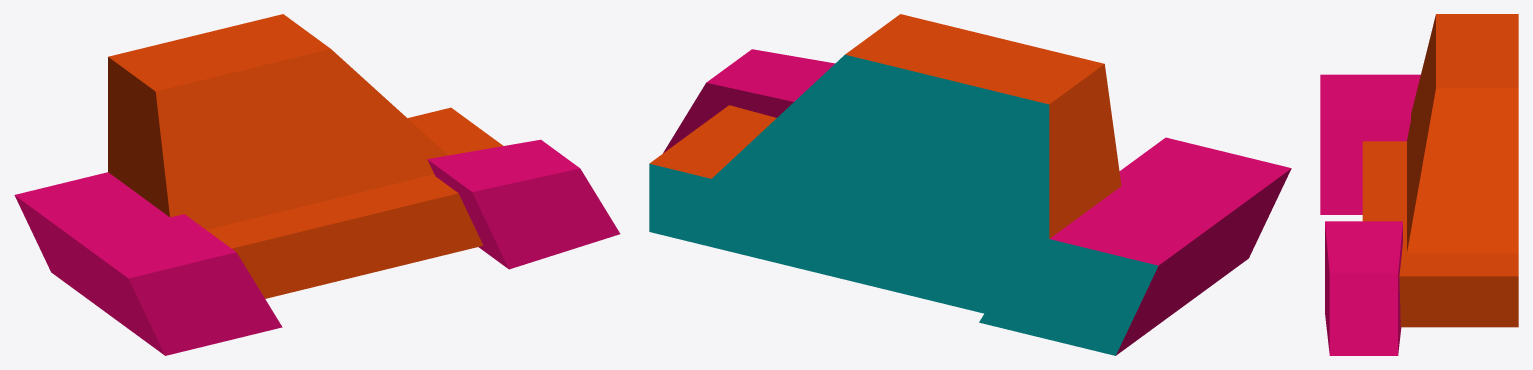
The model's file is half car (1).fbx.
3 views of the same model, side by side, from view 1: azimuth 30°, elevation 25°; view 2: azimuth 150°, elevation 25°; view 3: azimuth 270°, elevation 25° (orthographic). The views are drawn at different scales.
Visible parts, largest first — view 1: Cube.001; view 2: Cube.001; view 3: Cube.001.
Boxes of the visible parts, bbox=[...] form: Cube.001: bbox=[14, 14, 620, 355]; Cube.001: bbox=[649, 14, 1291, 355]; Cube.001: bbox=[1320, 14, 1518, 355].
Size of the model in its own units: 774 by 300 by 308.
